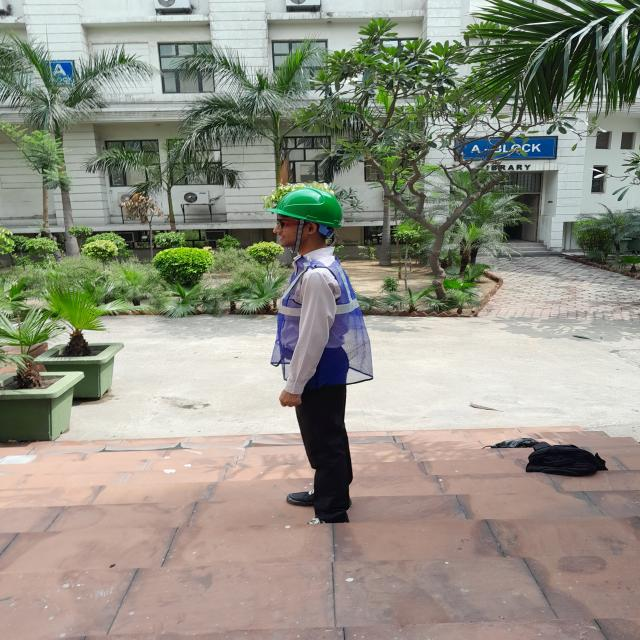safe: (271, 187, 373, 523)
